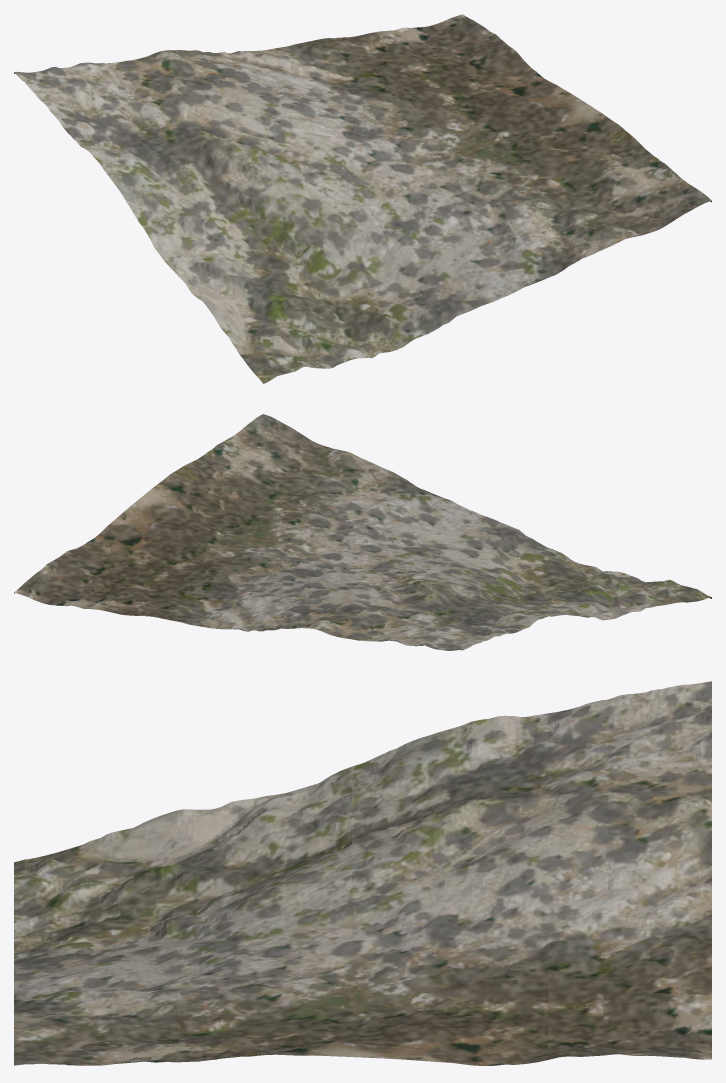
3 renders of one model, top to bottom at view 1: azimuth 30°, elevation 25°; view 2: azimuth 150°, elevation 25°; view 3: azimuth 270°, elevation 25°, orthographic. The views are drawn at different scales.
Size of the model in its own units: 250 by 70.39 by 241.
Materials: 1 (1 with a texture image).
